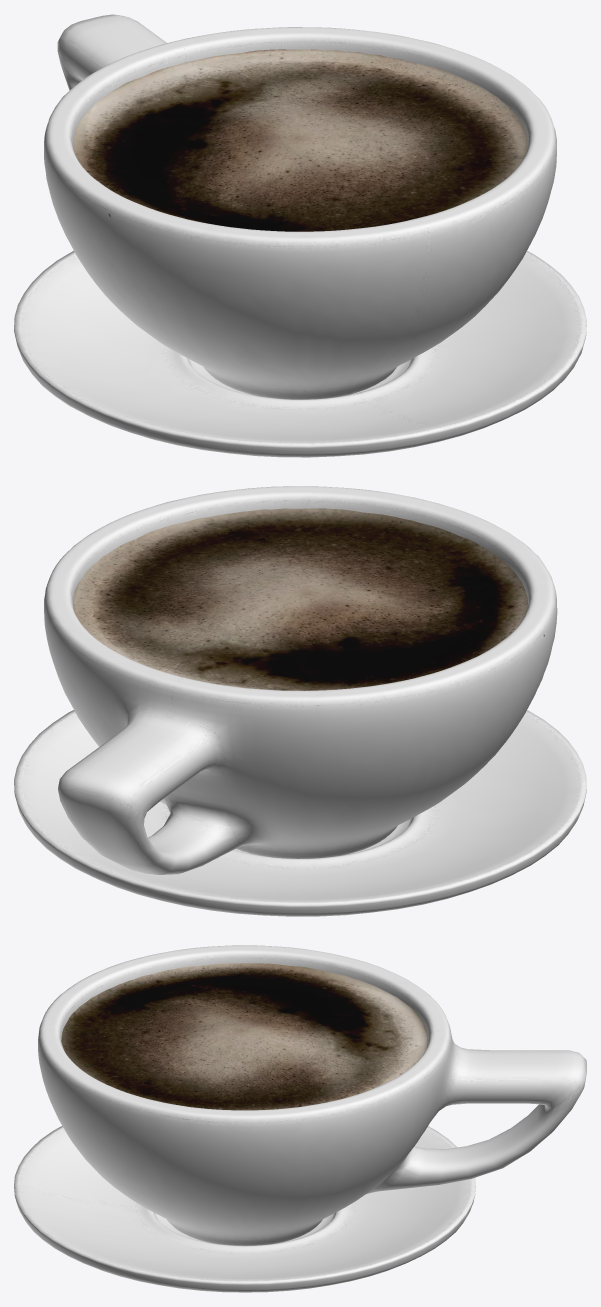
The model's file is espresso-transformed.glb.
The picture shows the model from 3 angles, top to bottom: view 1: azimuth 30°, elevation 25°; view 2: azimuth 150°, elevation 25°; view 3: azimuth 270°, elevation 25°; orthographic projection. The views are drawn at different scales.
Visible parts, largest first — view 1: Object_4, Object_6, Object_8; view 2: Object_4, Object_6, Object_8; view 3: Object_4, Object_6, Object_8.
Boxes of the visible parts, x1=… form: Object_4: x1=44, y1=14, x2=556, y2=399; Object_6: x1=73, y1=49, x2=527, y2=231; Object_8: x1=14, y1=251, x2=586, y2=457; Object_4: x1=44, y1=486, x2=557, y2=874; Object_6: x1=73, y1=508, x2=527, y2=690; Object_8: x1=14, y1=710, x2=586, y2=916; Object_4: x1=38, y1=945, x2=586, y2=1245; Object_6: x1=61, y1=963, x2=428, y2=1110; Object_8: x1=14, y1=1126, x2=475, y2=1292.
Size of the model in its own units: 2.17 by 1.05 by 2.69.
Materials: 3 (3 with a texture image).
